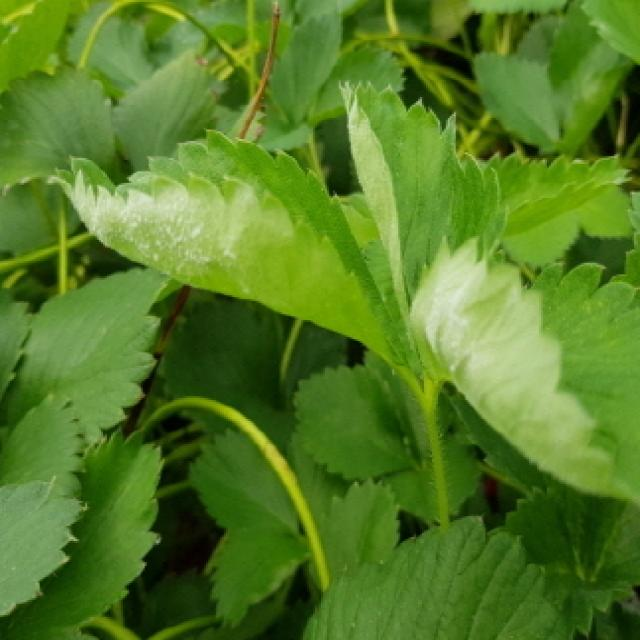Powdery Mildew Leaf: (43, 128, 406, 368), (407, 233, 640, 508)
